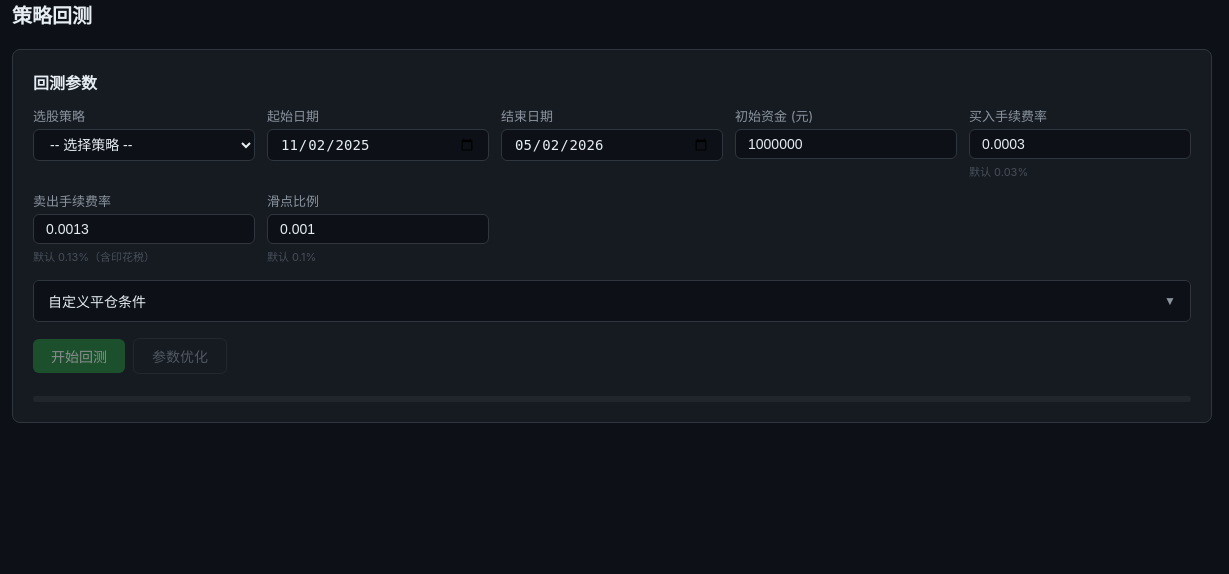
Scenario: BacktestView - 自定义平仓条件面板 › 点击 toggle 按钮展开面板
Step 1. Click the button "自定义平仓条件 ▼" → click(97, 302), box [34,281,1190,321]
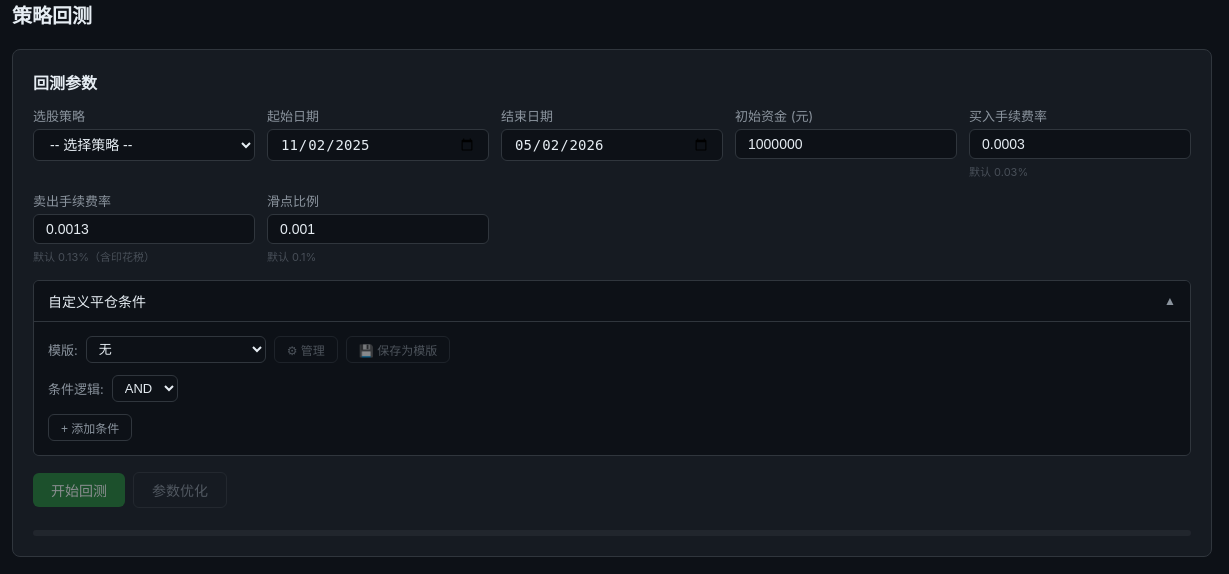
Check: the element with id "exit-conditions-content" is shown, box [34,321,1190,455]
